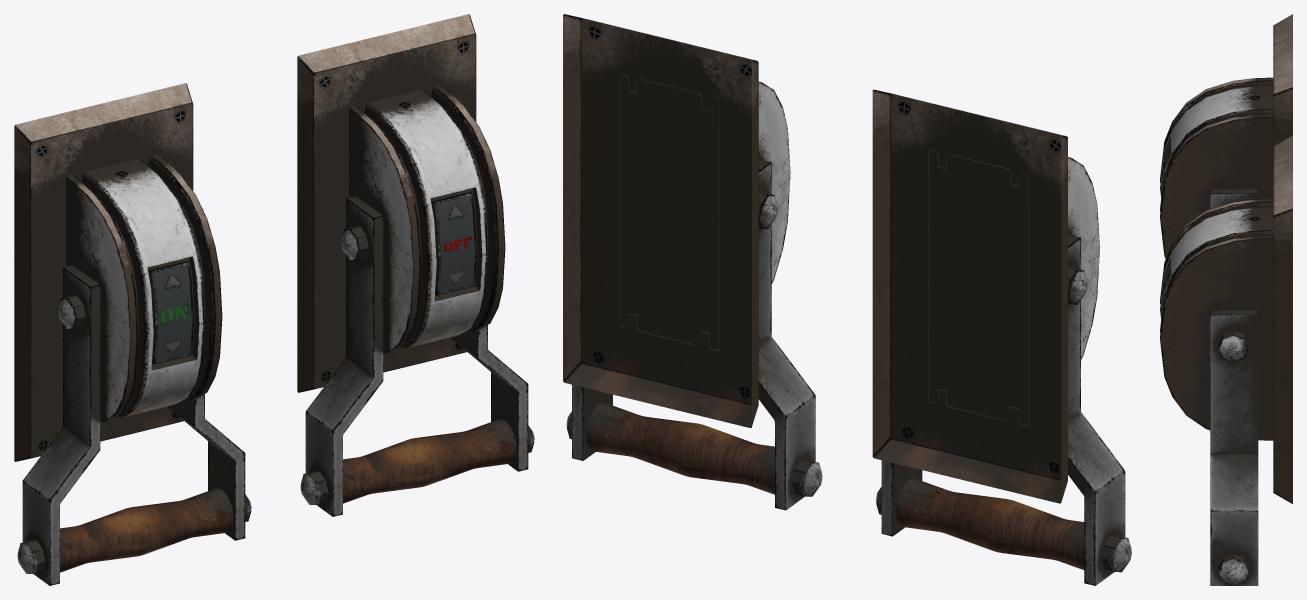
The model's file is key_electricity_lever.glb.
3 renders of one model, left to right at view 1: azimuth 30°, elevation 25°; view 2: azimuth 150°, elevation 25°; view 3: azimuth 270°, elevation 25°, orthographic. The views are drawn at different scales.
Parts seen in each view (by area): view 1: Key__Electricity__lever_on_off, Key__Electricity__lever_on; view 2: Key__Electricity__lever_on, Key__Electricity__lever_on_off; view 3: Key__Electricity__lever_on_off, Key__Electricity__lever_on.
Part boxes in pixels (left/top/right/bottom): Key__Electricity__lever_on_off: left=297, top=14, right=534, bottom=516; Key__Electricity__lever_on: left=14, top=83, right=251, bottom=585; Key__Electricity__lever_on: left=872, top=89, right=1131, bottom=585; Key__Electricity__lever_on_off: left=563, top=14, right=822, bottom=510; Key__Electricity__lever_on_off: left=1160, top=135, right=1292, bottom=585; Key__Electricity__lever_on: left=1160, top=14, right=1292, bottom=258.
Size of the model in its own units: 0.072 by 0.0571 by 0.0184.
2 materials, 2 textured.
